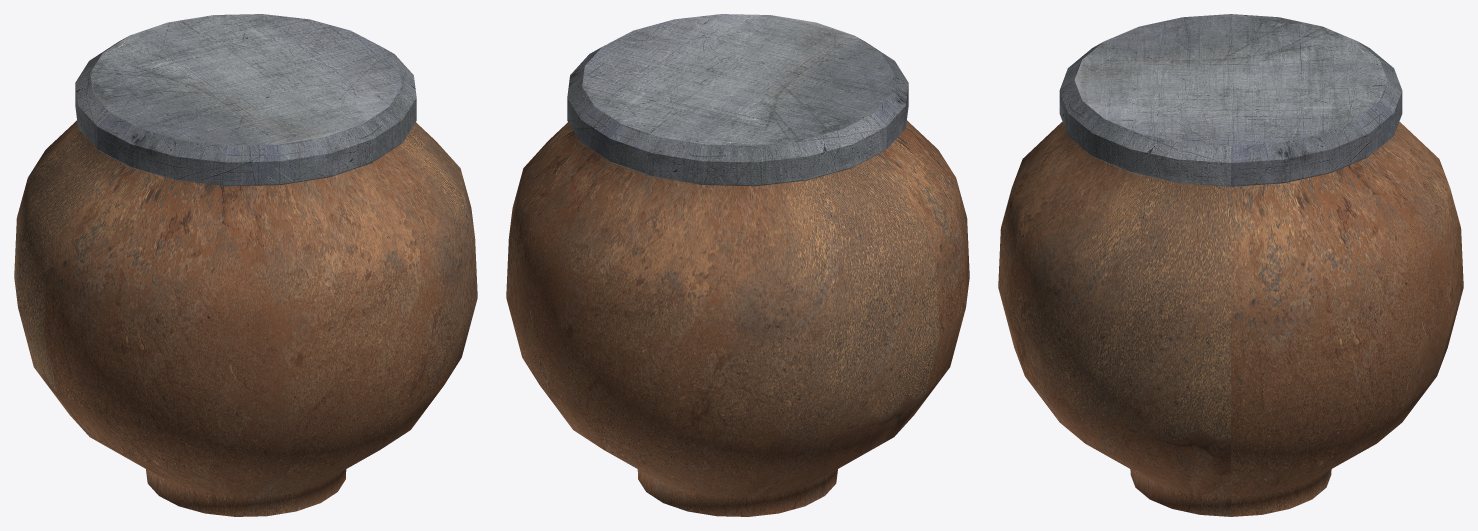
Rendered from Jar1.fbx.
3 renders of one model, left to right at view 1: azimuth 30°, elevation 25°; view 2: azimuth 150°, elevation 25°; view 3: azimuth 270°, elevation 25°, orthographic.
Visible parts, largest first — view 1: pCylinder5; view 2: pCylinder5; view 3: pCylinder5.
Boxes of the visible parts, <box> form: pCylinder5: <box>14,14,477,516</box>; pCylinder5: <box>506,14,969,516</box>; pCylinder5: <box>998,14,1463,516</box>.
Size of the model in its own units: 9.02 by 8.44 by 9.02.
Materials: 2 (2 with a texture image).
